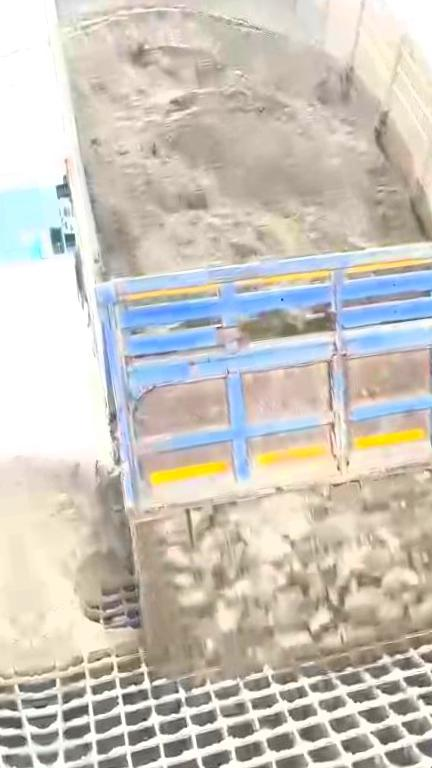sand: (64, 10, 423, 276), (135, 459, 432, 673), (3, 456, 130, 669)
